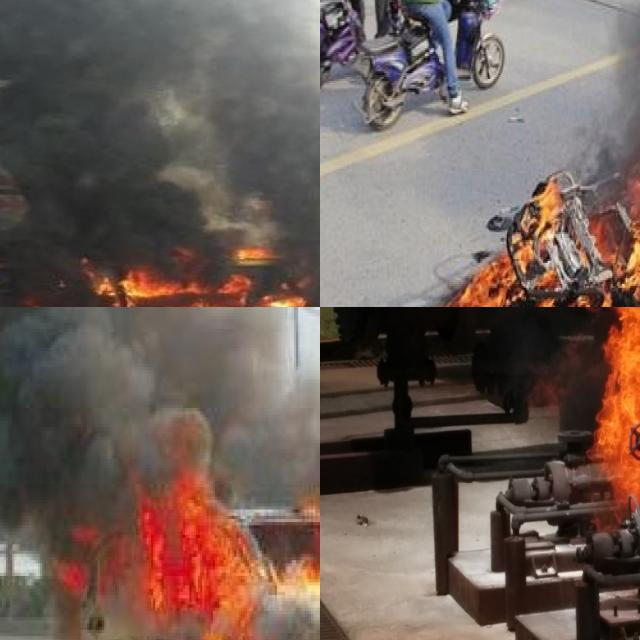fire: (50, 465, 320, 640), (432, 99, 640, 307), (0, 244, 320, 307)
smoke: (0, 0, 320, 307), (0, 307, 320, 516)
